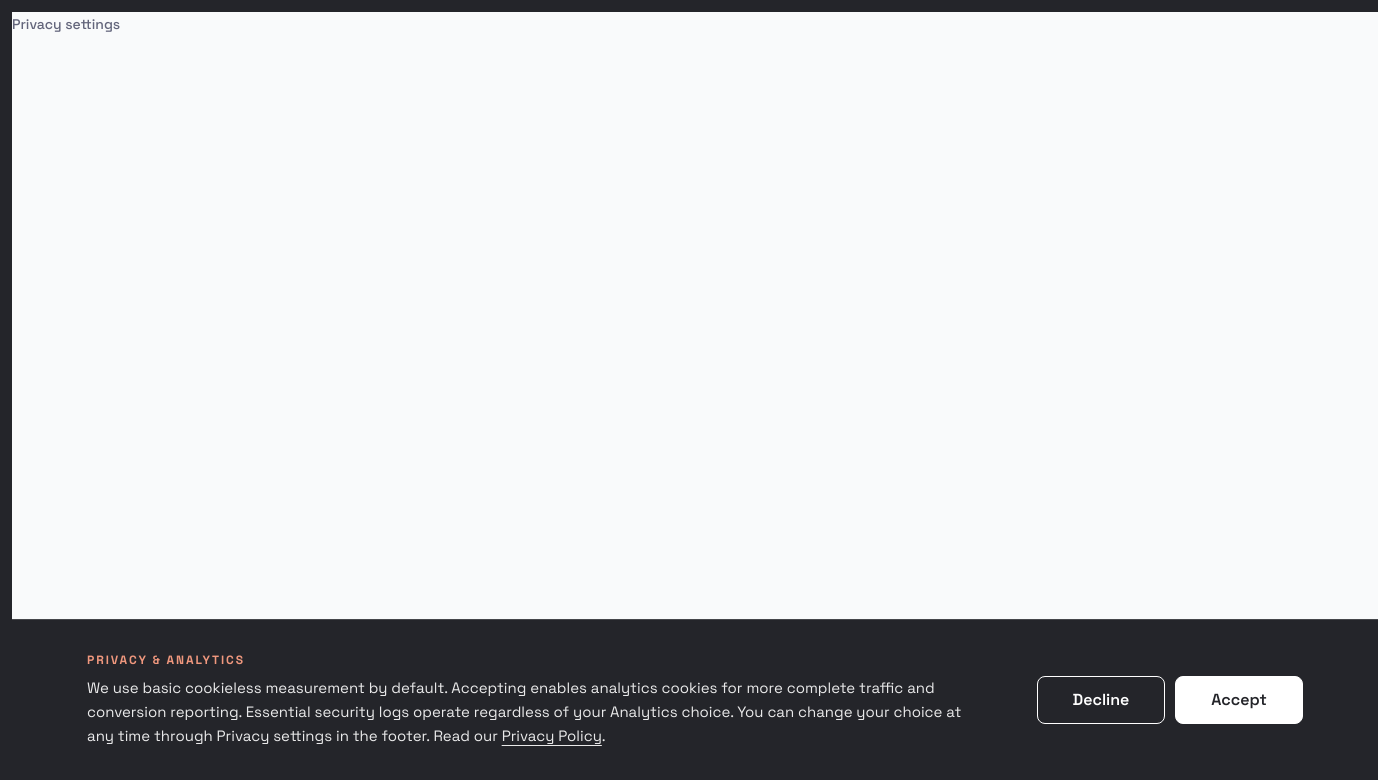
Scenario: AnalyticsConsentProvider › fails closed and remains open when consent cannot be saved
Click the button with aria-label "Accept analytics cookies": (1239, 700) [1175, 676, 1303, 724]
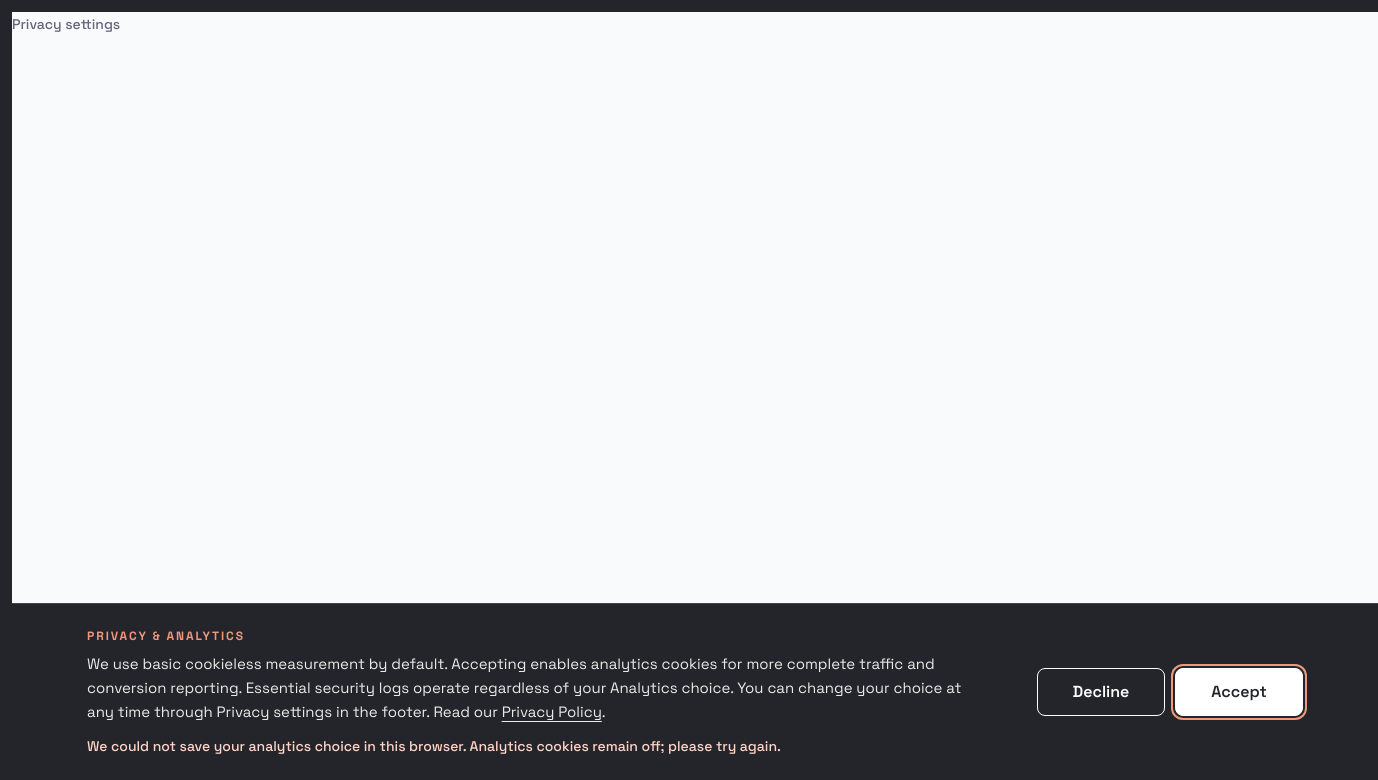
Expected: the element named "Analytics privacy choices" is shown, [12, 603, 1377, 779]
Result: the message shows "We could not save your analytics choice in this browser. Analytics cookies remain off; please try again." at [87, 737, 781, 755]
